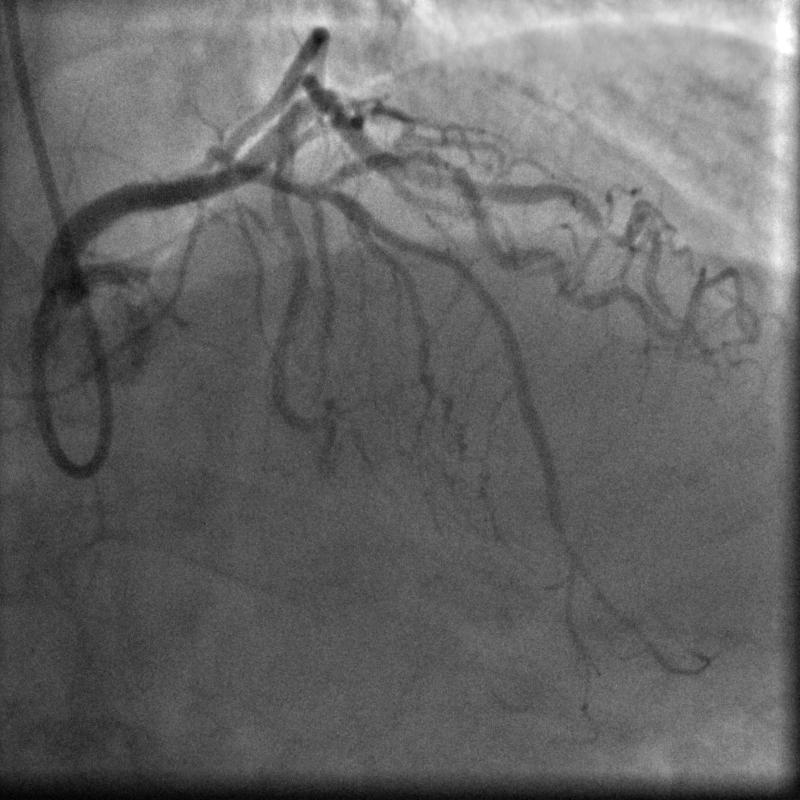Stenosis: (415, 146, 469, 182)
